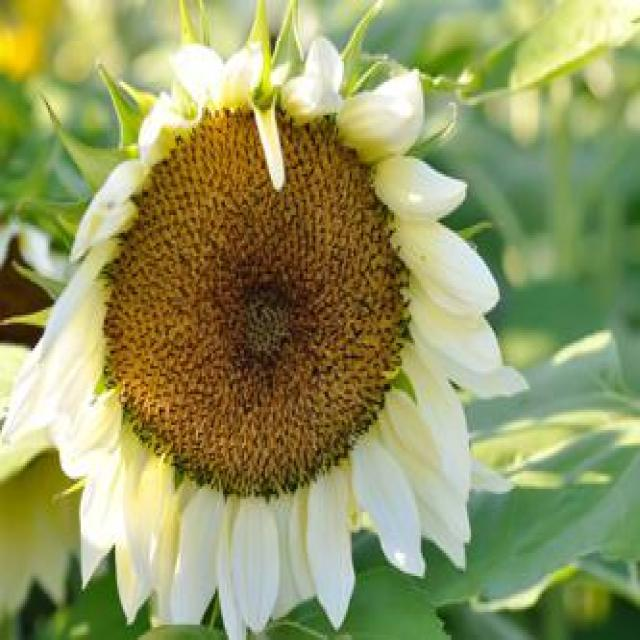sunflower: (0, 38, 530, 639)
